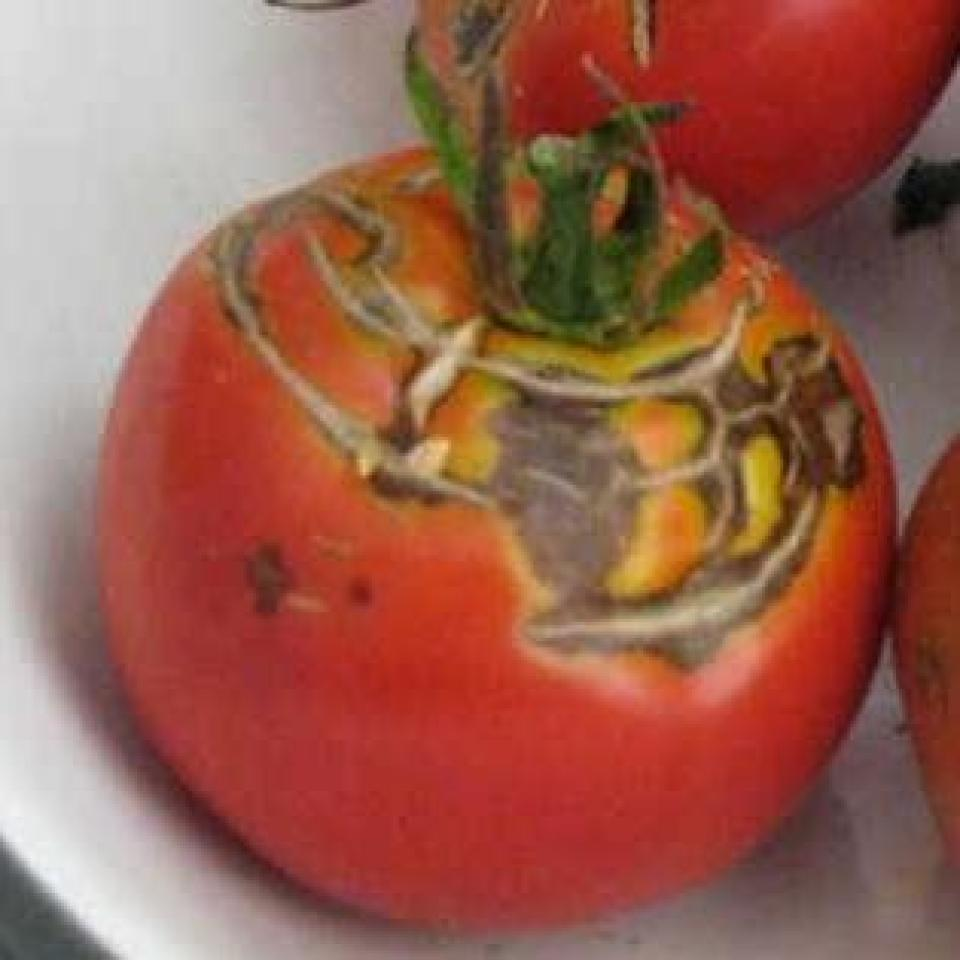Cracking: (456, 312, 894, 696), (323, 0, 957, 220), (294, 178, 760, 416), (208, 178, 496, 543), (855, 427, 957, 924), (170, 499, 354, 653)
